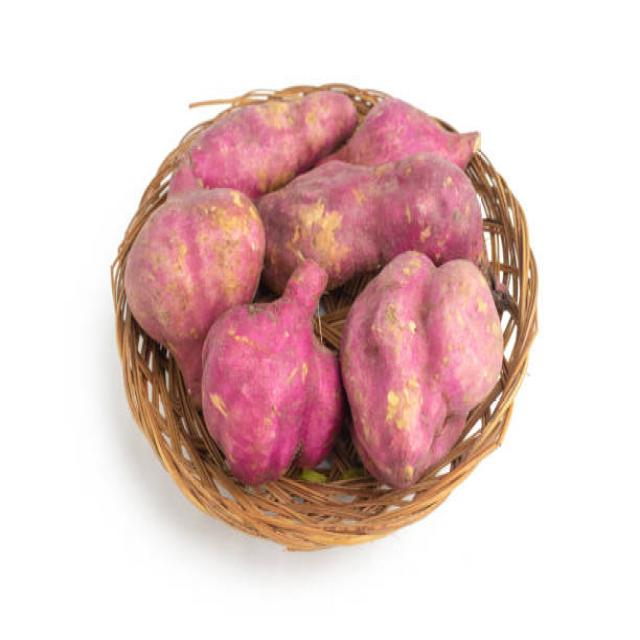Sweet Potato: (345, 248, 503, 486), (204, 298, 340, 484), (272, 157, 482, 256), (123, 173, 261, 315), (199, 93, 352, 165)
